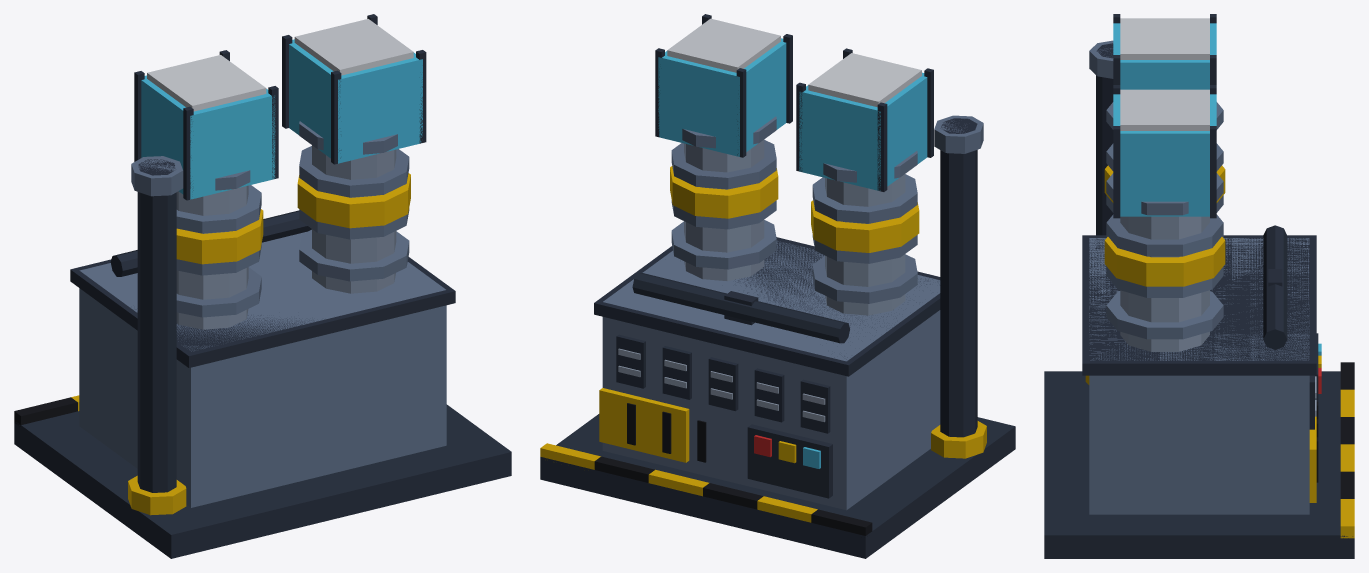
The model's file is Decor_MechaHangar_Generator.fbx.
The picture shows the model from 3 angles, left to right: view 1: azimuth 30°, elevation 25°; view 2: azimuth 150°, elevation 25°; view 3: azimuth 270°, elevation 25°; orthographic projection. The views are drawn at different scales.
Parts seen in each view (by area): view 1: Generator_Body; view 2: Generator_Body; view 3: Generator_Body.
Part boxes in pixels (x1,y1,x2,y2): Generator_Body: (14,14,511,558); Generator_Body: (540,14,1015,558); Generator_Body: (1044,14,1354,558).
Size of the model in its own units: 12 by 13.7 by 9.5.
